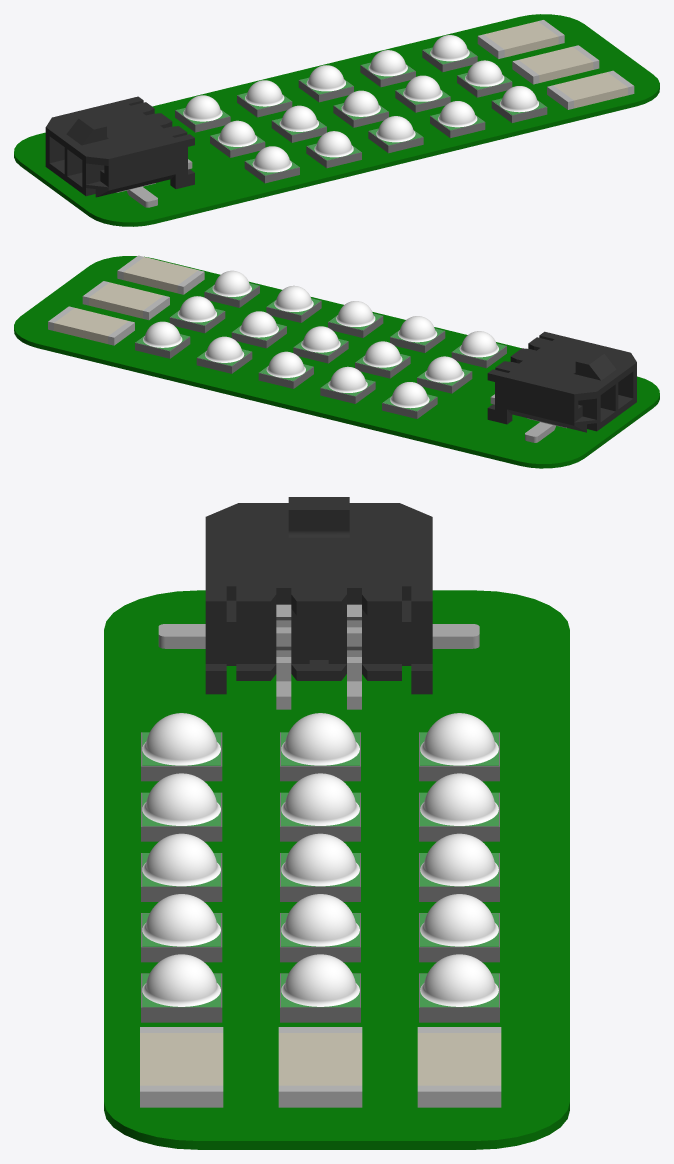
The model's file is fdi.glb.
3 renders of one model, top to bottom at view 1: azimuth 30°, elevation 25°; view 2: azimuth 150°, elevation 25°; view 3: azimuth 270°, elevation 25°, orthographic. The views are drawn at different scales.
Visible parts, largest first — view 1: Open CASCADE STEP translator 7.5 1.1.1, P1, Extruded008, Extruded005, Extruded002, LED15, LED13, LED11, LED12, LED14, LED1, LED7 (+12 smaller); view 2: Open CASCADE STEP translator 7.5 1.1.1, P1, Extruded002, Extruded005, Extruded008, LED4, LED10, LED5, LED2, LED3, LED6, LED1 (+12 smaller); view 3: Open CASCADE STEP translator 7.5 1.1.1, P1, LED15, LED10, LED5, LED14, LED11, LED12, LED13, LED1, LED9, LED4 (+15 smaller).
Part boxes in pixels (box(x1,y1,x2,y2)): Open CASCADE STEP translator 7.5 1.1.1: box(14, 14, 659, 226); P1: box(45, 96, 194, 197); Extruded008: box(484, 21, 558, 57); Extruded005: box(519, 46, 593, 82); Extruded002: box(553, 72, 627, 108); LED15: box(491, 86, 547, 122); LED13: box(368, 116, 423, 153); LED11: box(244, 146, 299, 183); LED12: box(306, 131, 361, 168); LED14: box(430, 101, 485, 138); LED1: box(175, 95, 230, 132); LED7: box(271, 105, 326, 142); Open CASCADE STEP translator 7.5 1.1.1: box(14, 256, 659, 468); P1: box(487, 331, 636, 432); Extruded002: box(123, 257, 197, 293); Extruded005: box(89, 282, 163, 318); Extruded008: box(54, 308, 128, 343); LED4: box(196, 336, 252, 373); LED10: box(169, 296, 225, 333); LED5: box(135, 321, 190, 358); LED2: box(320, 366, 375, 403); LED3: box(258, 351, 313, 388); LED6: box(417, 356, 472, 393); LED1: box(382, 382, 437, 418); Open CASCADE STEP translator 7.5 1.1.1: box(104, 590, 569, 1149); P1: box(205, 497, 432, 694); LED15: box(141, 954, 222, 1022); LED10: box(280, 954, 360, 1022); LED5: box(419, 954, 499, 1022); LED14: box(141, 894, 222, 962); LED11: box(141, 713, 222, 781); LED12: box(141, 773, 222, 841); LED13: box(141, 833, 222, 901); LED1: box(419, 713, 499, 781); LED9: box(280, 894, 360, 962); LED4: box(419, 894, 499, 962).
Bounding box in the file's own units: 0.0554 × 0.00602 × 0.0198.
